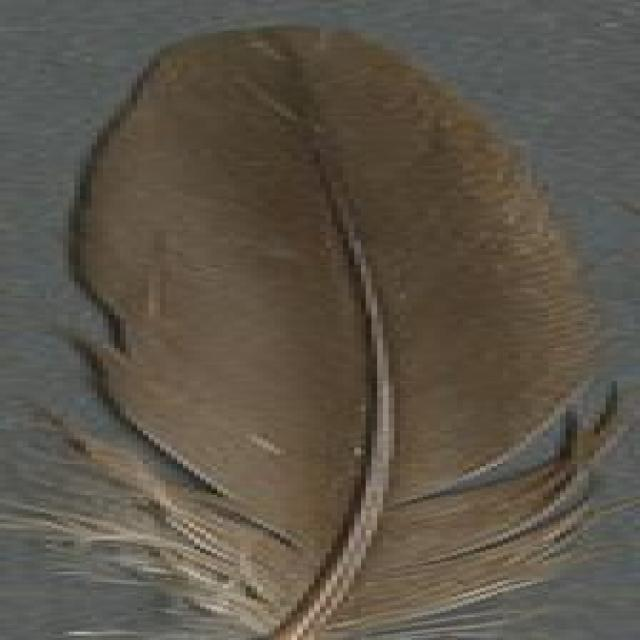feather: (17, 25, 640, 639)
